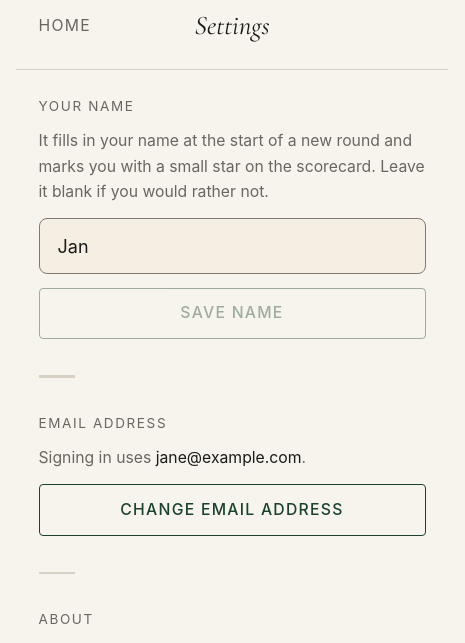
Test: Settings (#4) › pre-fills the name and PATCHes the trimmed value
Replace the text in the field showing "Jan" with "  Jane  " at (232, 246), box [38,218,426,274]
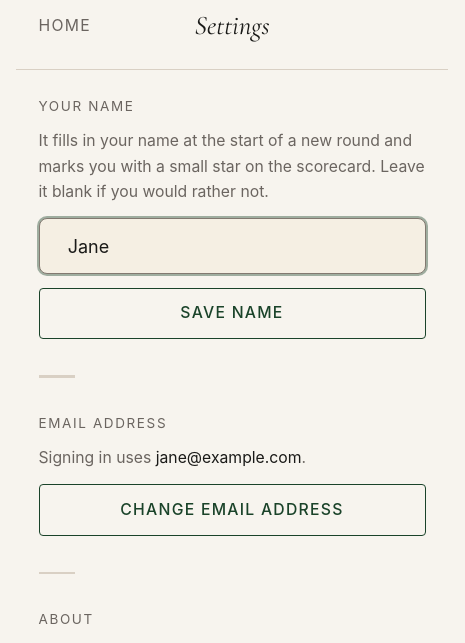
Click the button "Save name" at (232, 314), box [38,288,426,339]
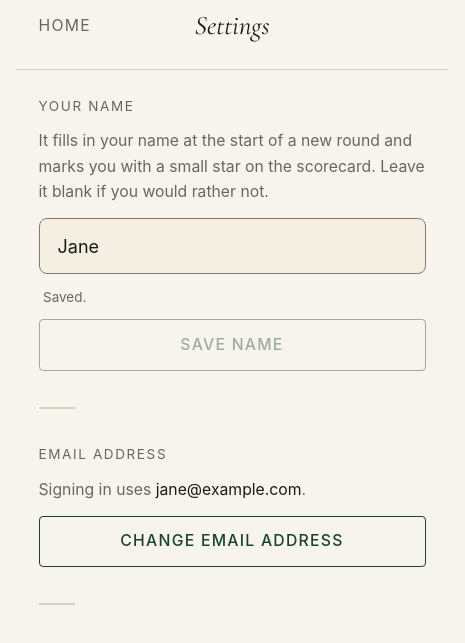
Result: the text "Saved." is shown at [43,289,86,305]
